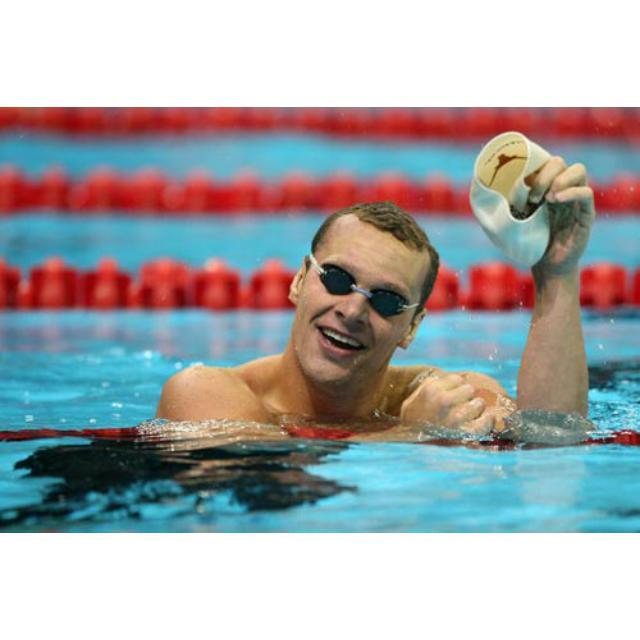human: (158, 132, 597, 463)
